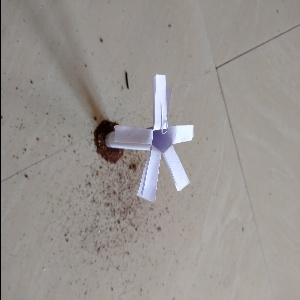weed: (106, 70, 205, 190)
